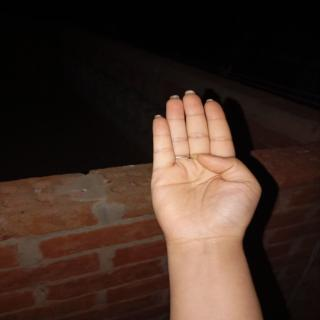KAAF: (150, 82, 266, 269)
